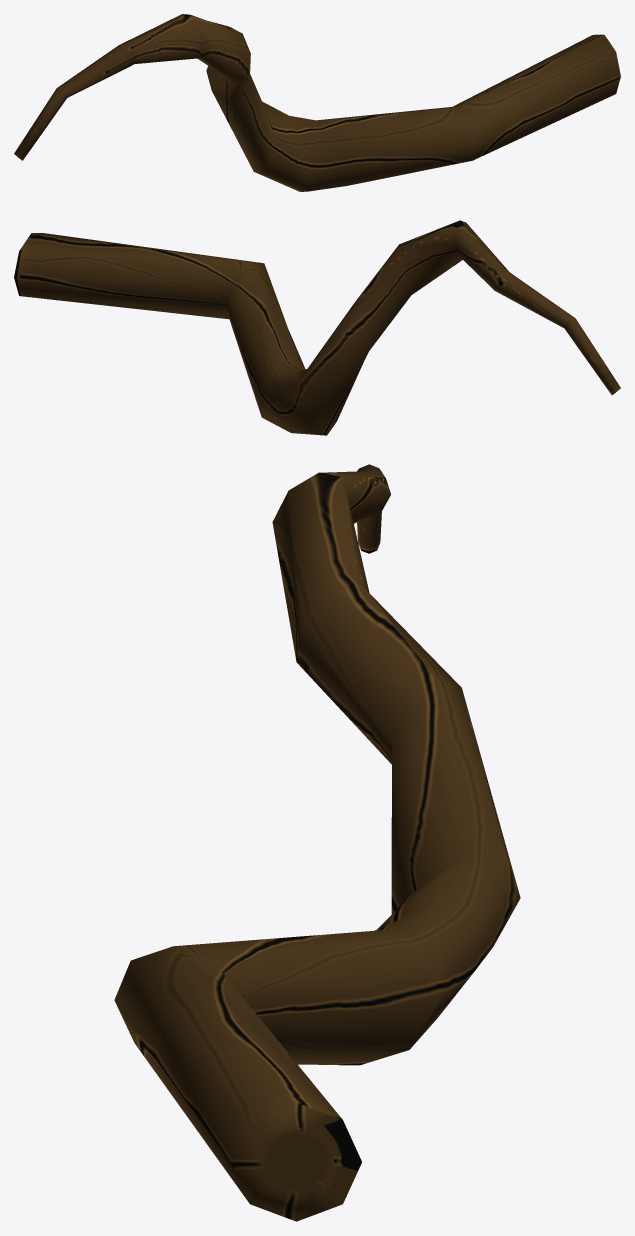
The picture shows the model from 3 angles, top to bottom: view 1: azimuth 30°, elevation 25°; view 2: azimuth 150°, elevation 25°; view 3: azimuth 270°, elevation 25°; orthographic projection. The views are drawn at different scales.
Visible parts, largest first — view 1: Root01_LOD0; view 2: Root01_LOD0; view 3: Root01_LOD0.
Part boxes in pixels (bbox=[...]): Root01_LOD0: bbox=[14, 14, 620, 191]; Root01_LOD0: bbox=[14, 220, 620, 435]; Root01_LOD0: bbox=[114, 464, 520, 1221].
Size of what is drawn, in the model's own units: 106 by 38.78 by 32.52.
1 material, 1 textured.
